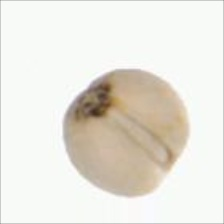L5: (103, 102, 175, 171), (69, 74, 115, 122)
L6: (60, 67, 191, 198)
